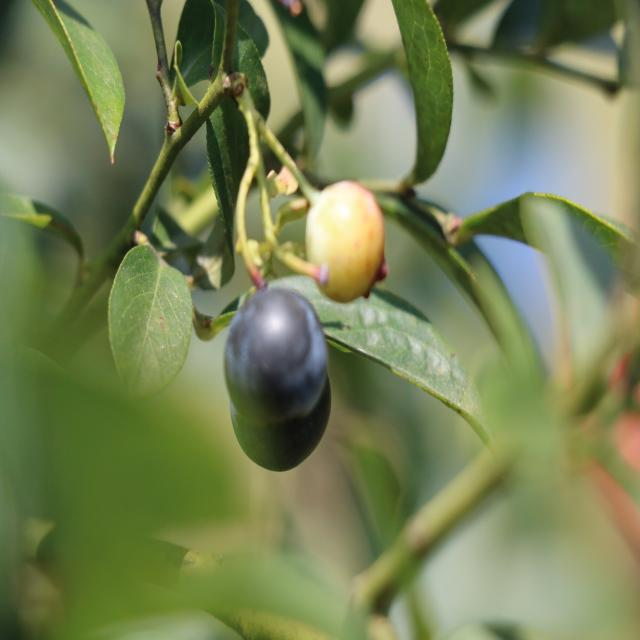blueberry: (221, 283, 331, 431), (227, 364, 336, 478)
blueberry-unripe: (301, 180, 383, 296)
